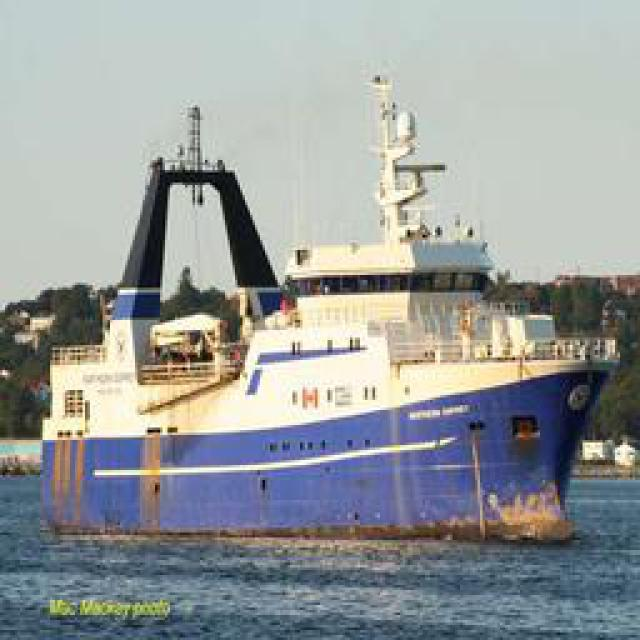Ship: (38, 52, 616, 545)
